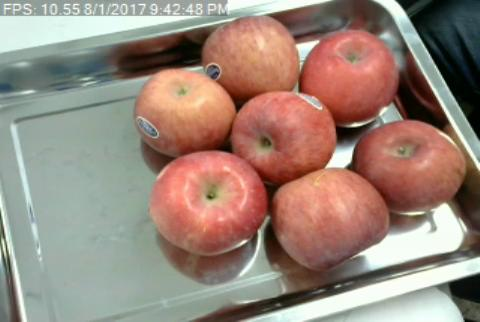apple: (150, 151, 269, 257), (272, 167, 390, 268), (352, 118, 469, 217), (297, 30, 401, 126), (231, 89, 335, 181), (134, 68, 235, 149), (203, 17, 298, 92)
